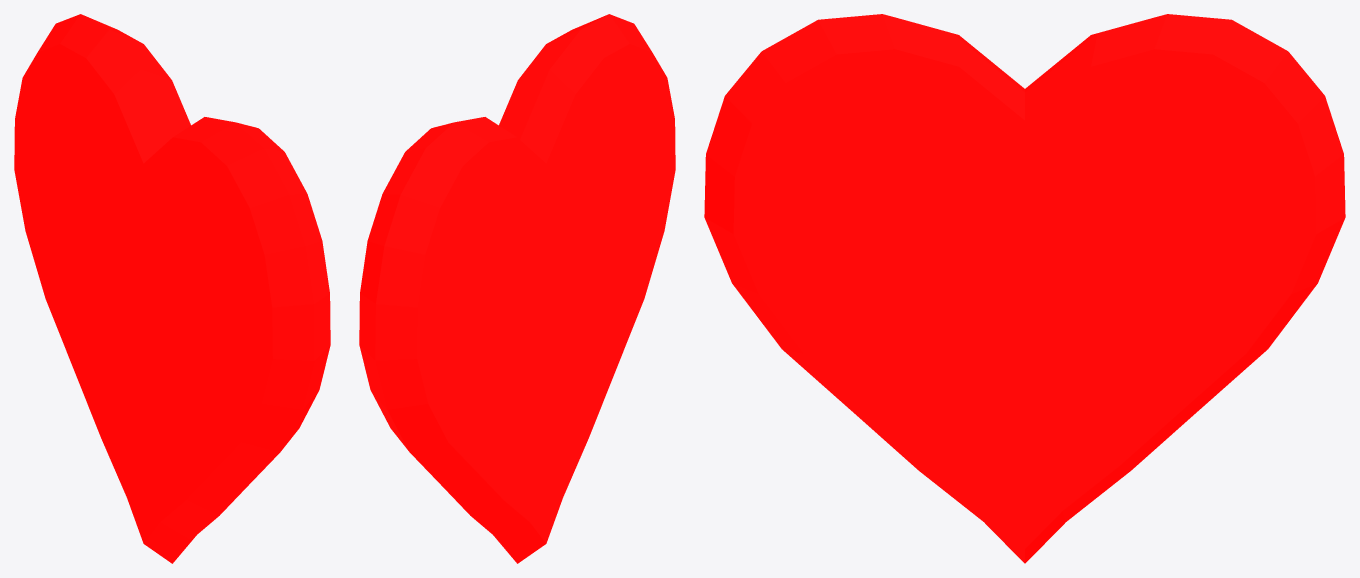
The model's file is Heart.glb.
3 renders of one model, left to right at view 1: azimuth 30°, elevation 25°; view 2: azimuth 150°, elevation 25°; view 3: azimuth 270°, elevation 25°, orthographic. The views are drawn at different scales.
Visible parts, largest first — view 1: Cylinder; view 2: Cylinder; view 3: Cylinder.
Boxes of the visible parts, x1=… form: Cylinder: x1=14, y1=14, x2=330, y2=563; Cylinder: x1=359, y1=14, x2=675, y2=563; Cylinder: x1=704, y1=14, x2=1345, y2=563.
Size of the model in its own units: 0.4 by 3.23 by 3.41.
